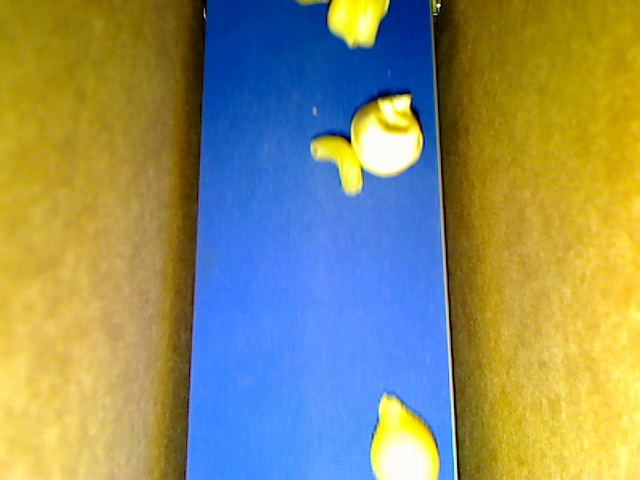elbow: (310, 133, 361, 195)
shell: (369, 391, 439, 479)
tortellini: (351, 93, 422, 178), (327, 1, 390, 50)
